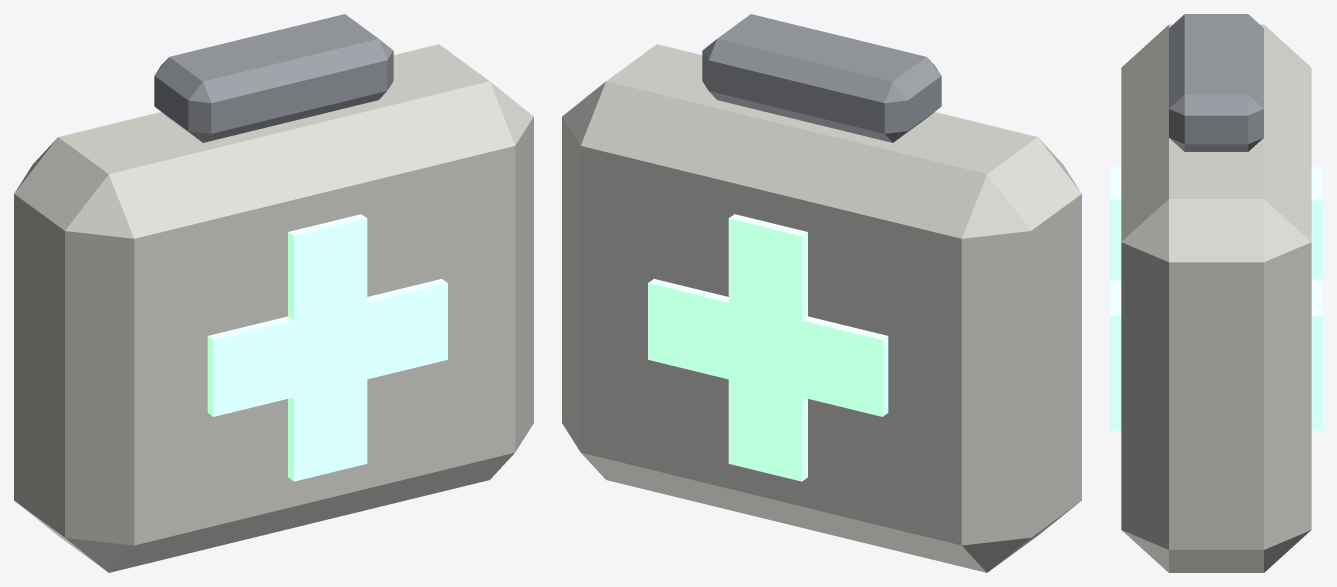
The model's file is item_health.glb.
3 views of the same model, side by side, from view 1: azimuth 30°, elevation 25°; view 2: azimuth 150°, elevation 25°; view 3: azimuth 270°, elevation 25° (orthographic). The views are drawn at different scales.
Visible parts, largest first — view 1: health; view 2: health; view 3: health.
Part boxes in pixels (left/top/right/bottom): health: left=14, top=14, right=533, bottom=572; health: left=562, top=14, right=1081, bottom=572; health: left=1110, top=14, right=1322, bottom=572.
Size of the model in its own units: 0.32 by 0.3 by 0.134.
